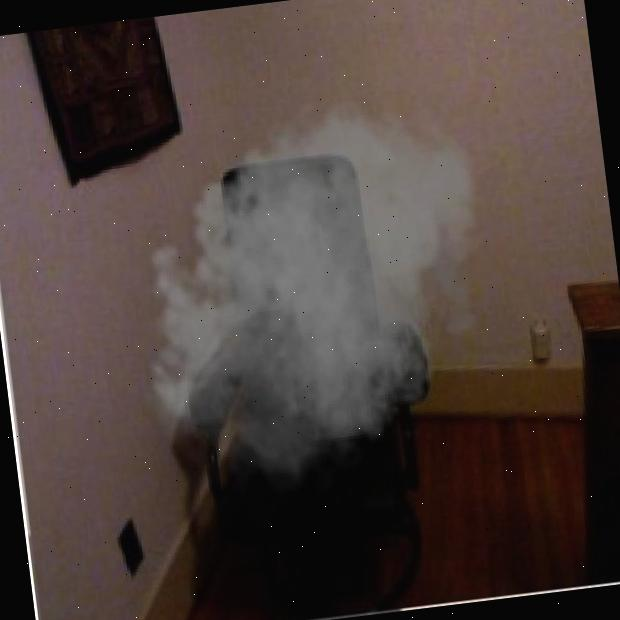smoke: (106, 74, 519, 520)
